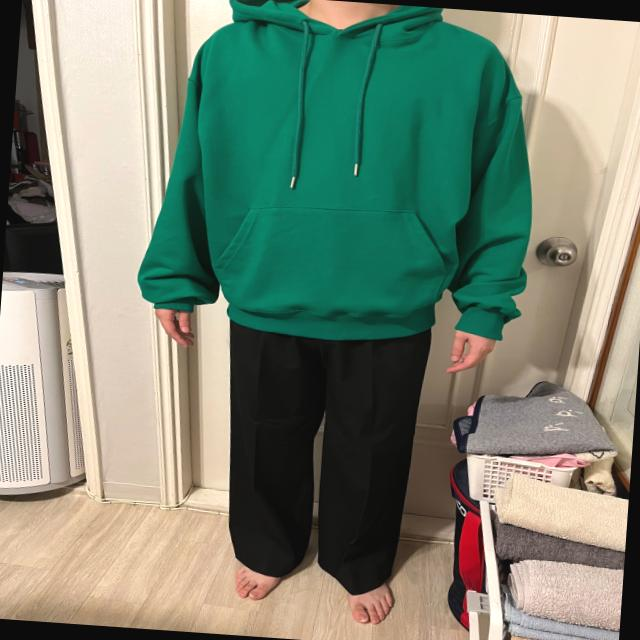hoodies: (134, 0, 540, 337)
slacks: (208, 306, 429, 592)
